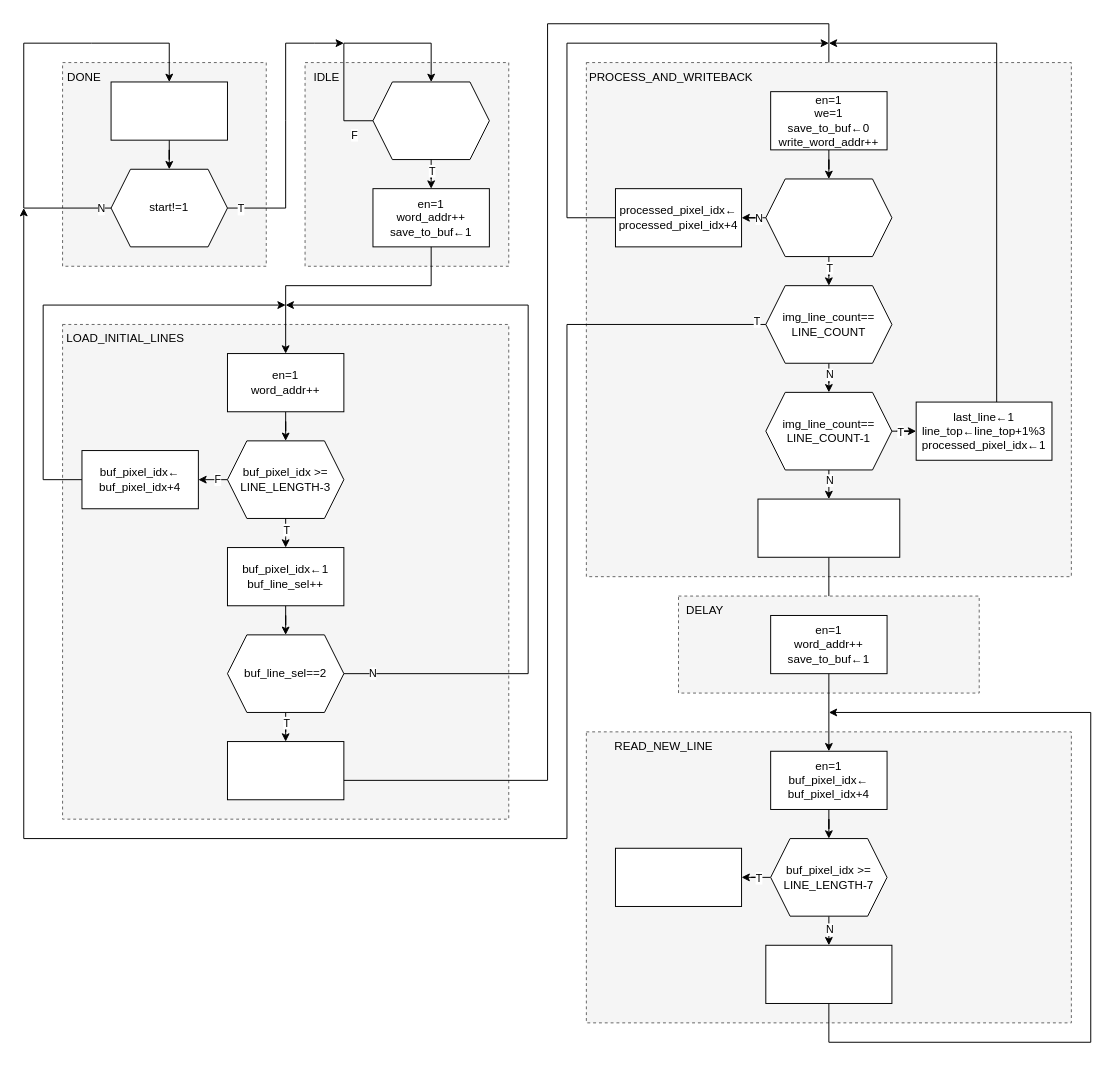
Image size: 1116x1067. Some labels were removed from this diagram. The shapes that lost their labels are listed below. From the top down, each one's centre as x and y in pixels, then its label:
At (168,110): "finish=1".
At (430,120): "start==1".
At (828,217): "processed_pixel_idx >=LINE_LENGTH-3".
At (828,527): "first_line←0 buf_line_sel←line_top word_addr++ processed_pixel_idx←1".
At (285,770): "word_addr-- save_to_buf←0".
At (678,876): "processed_pixel_idx=1 line_top←line_top+1%3".
At (828,973): "word_addr++".
